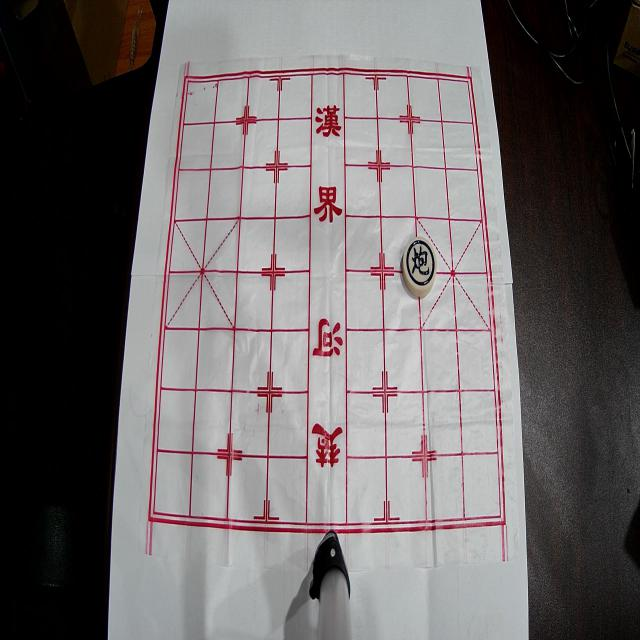black-cannon: (402, 237, 437, 297)
